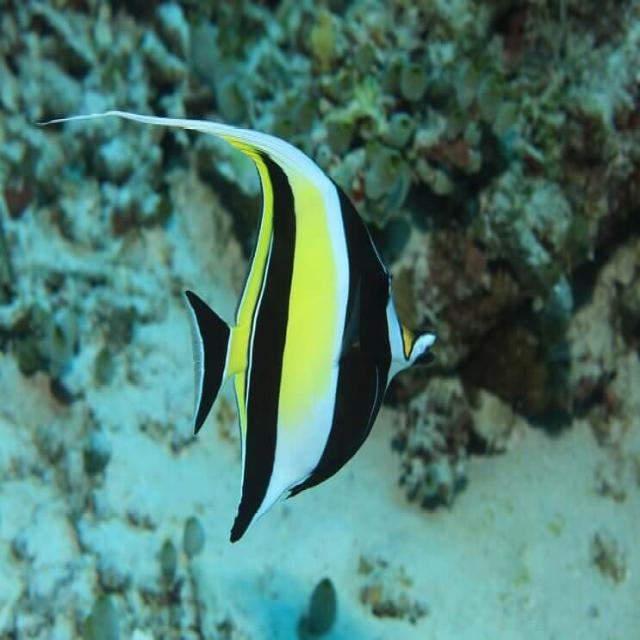MorishIdol: (34, 104, 438, 546)
